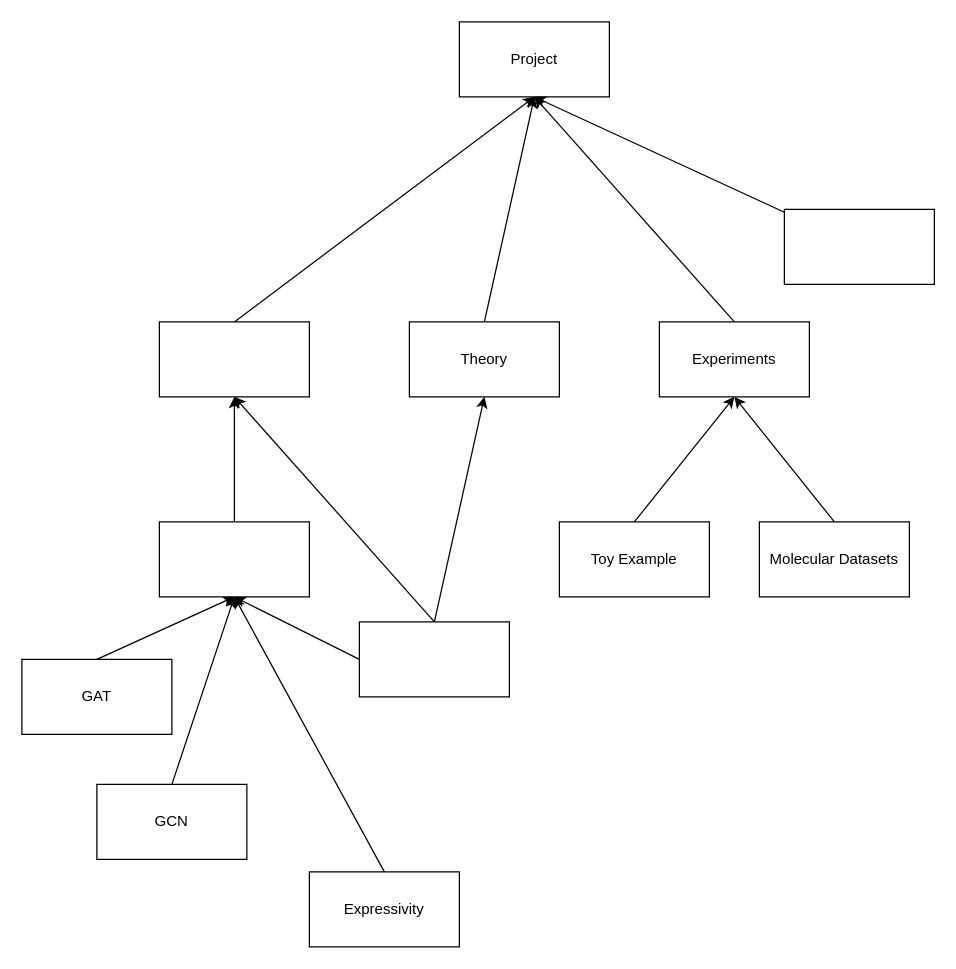
Some shapes in this 956 by 969 pixel diagram are drawn without their labels. Here are the shapes that lost their labels. From the top down, the box of each, then its label:
(783, 208, 934, 284): Future
(158, 321, 309, 397): Introduction
(158, 521, 309, 597): Graph Neural Networks
(358, 621, 509, 697): GIN
